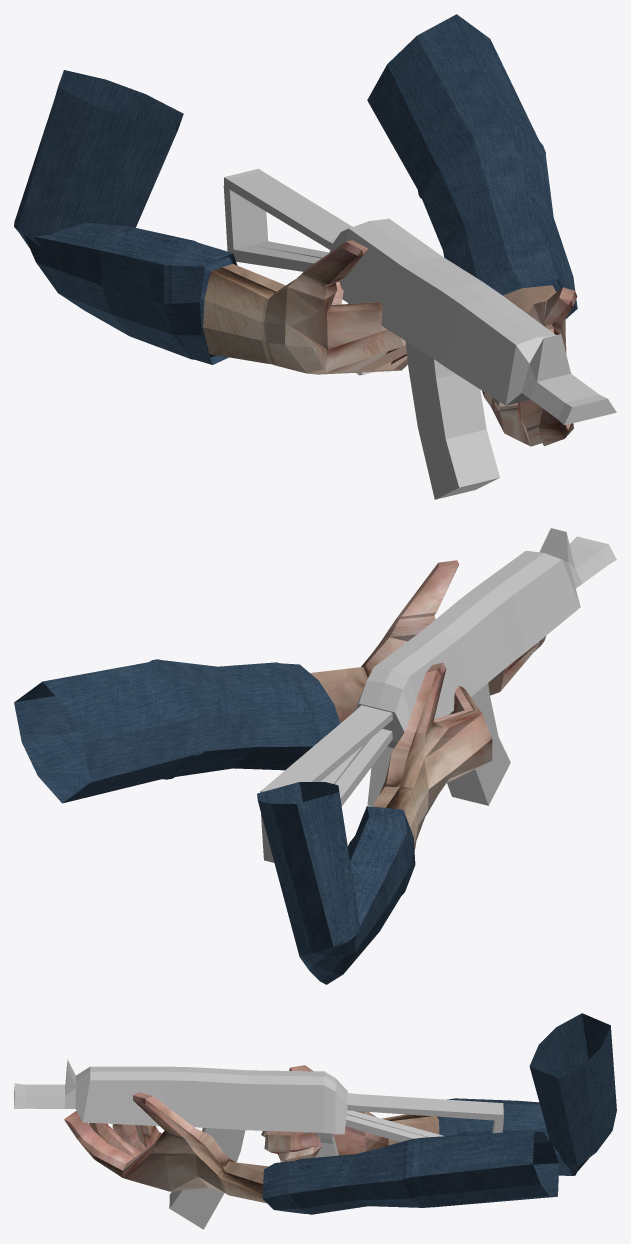
File: Player_Arms_Machinegun.obj
The picture shows the model from 3 angles, top to bottom: view 1: azimuth 30°, elevation 25°; view 2: azimuth 150°, elevation 25°; view 3: azimuth 270°, elevation 25°; orthographic projection. The views are drawn at different scales.
Visible parts, largest first — view 1: Cube.001_Cube.002, Cube_Cube.003, Cube.002_Cube.001; view 2: Cube.002_Cube.001, Cube.001_Cube.002, Cube_Cube.003; view 3: Cube.002_Cube.001, Cube_Cube.003, Cube.001_Cube.002.
Part boxes in pixels (bbox=[...]): Cube.001_Cube.002: bbox=[14, 70, 407, 374]; Cube_Cube.003: bbox=[223, 168, 616, 499]; Cube.002_Cube.001: bbox=[367, 14, 577, 446]; Cube.002_Cube.001: bbox=[14, 560, 545, 803]; Cube.001_Cube.002: bbox=[257, 662, 492, 984]; Cube_Cube.003: bbox=[260, 528, 616, 862]; Cube.002_Cube.001: bbox=[64, 1092, 559, 1214]; Cube_Cube.003: bbox=[14, 1059, 503, 1229]; Cube.001_Cube.002: bbox=[261, 1013, 616, 1175].
Bounding box in the file's own units: 3.28 × 1.82 × 5.73.
